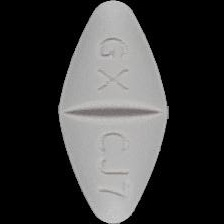0179-0087: (0, 0, 224, 224)
